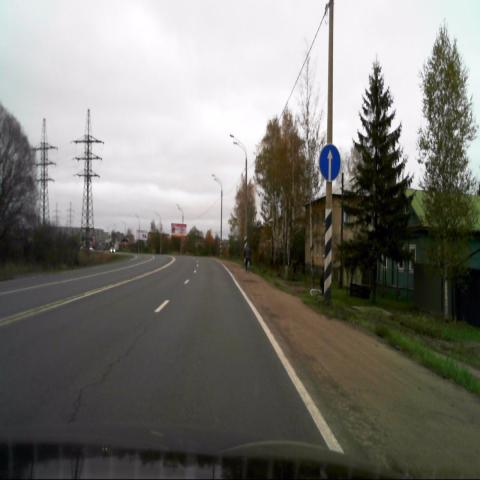4_1_1: (318, 144, 340, 182)
